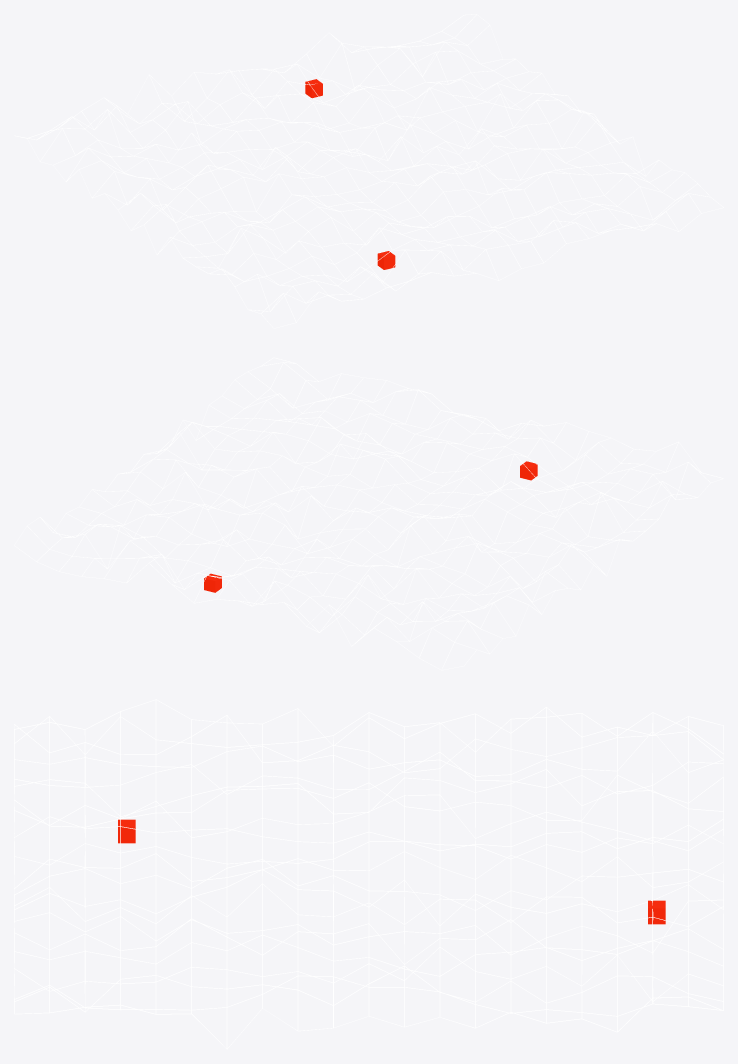
3 renders of one model, top to bottom at view 1: azimuth 30°, elevation 25°; view 2: azimuth 150°, elevation 25°; view 3: azimuth 270°, elevation 25°, orthographic. The views are drawn at different scales.
Parts seen in each view (by area): view 1: Plane; view 2: Plane; view 3: Plane.
Part boxes in pixels (x1,y1,x2,y2): Plane: (14, 14, 723, 328); Plane: (14, 357, 723, 670); Plane: (14, 699, 723, 1049).
Bounding box in the file's own units: 20.01 × 2.02 × 20.01.
